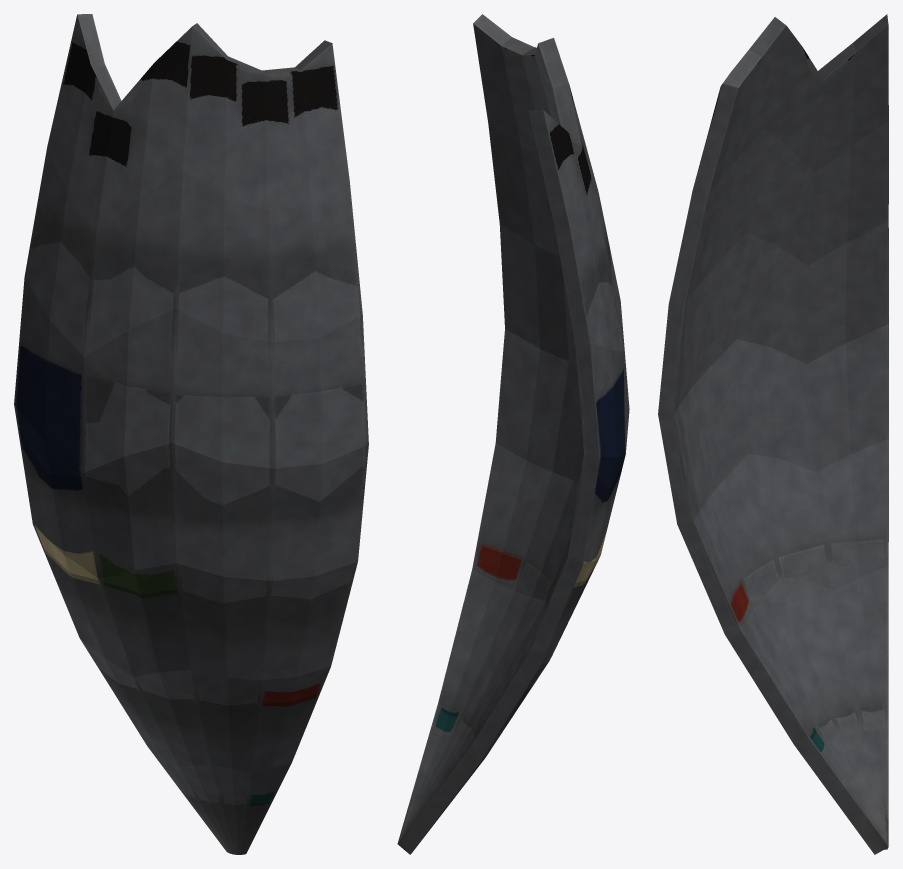
The model's file is hull_shell_corner.glb.
The picture shows the model from 3 angles, left to right: view 1: azimuth 30°, elevation 25°; view 2: azimuth 150°, elevation 25°; view 3: azimuth 270°, elevation 25°; orthographic projection. The views are drawn at different scales.
Visible parts, largest first — view 1: hull_shell_corner; view 2: hull_shell_corner; view 3: hull_shell_corner.
Boxes of the visible parts, x1,y1,x2,y2 form: hull_shell_corner: (14, 14, 368, 854); hull_shell_corner: (397, 14, 629, 854); hull_shell_corner: (658, 14, 888, 854).
Bounding box in the file's own units: 2.77 × 10.46 × 2.77.
Materials: 1 (1 with a texture image).
